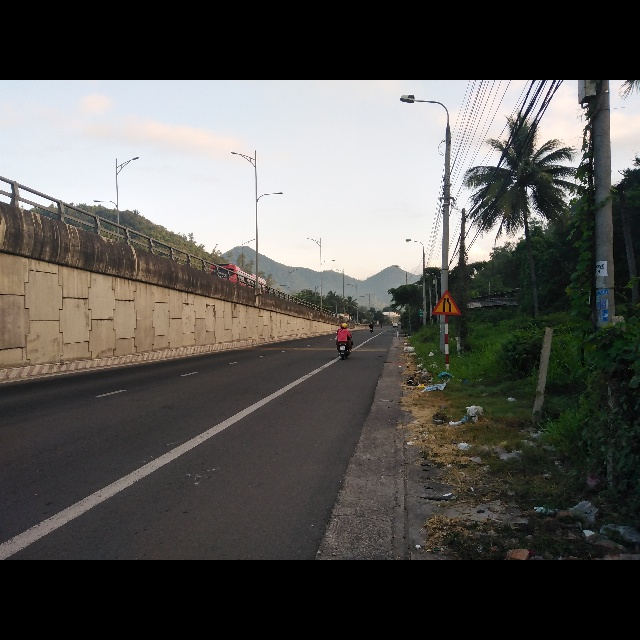Đường bị hẹp bên phải: (431, 288, 462, 316)
